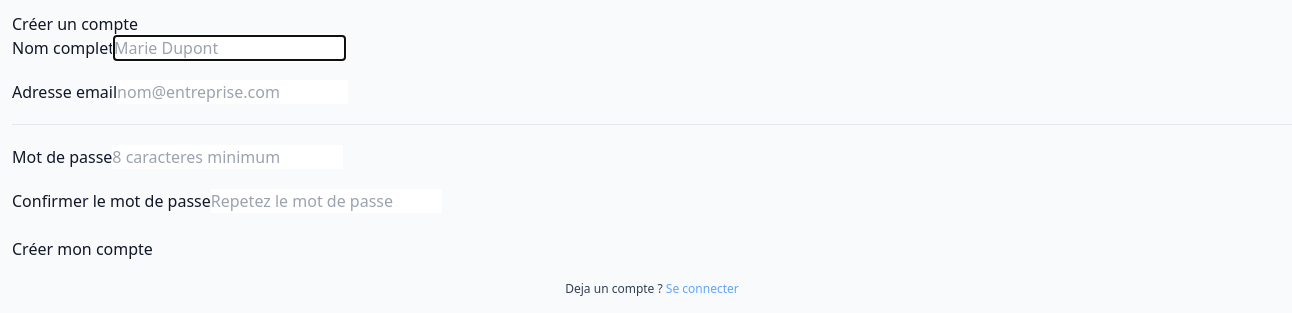
Test: RegisterPage › validation Zod — règles de complexité du mot de passe › devrait rejeter un mot de passe sans majuscule
The width and height of the screenshot is (1292, 313).
Type "Jean Dupont" into the field labelled "Nom complet" at [230, 48], box [114, 36, 345, 60]
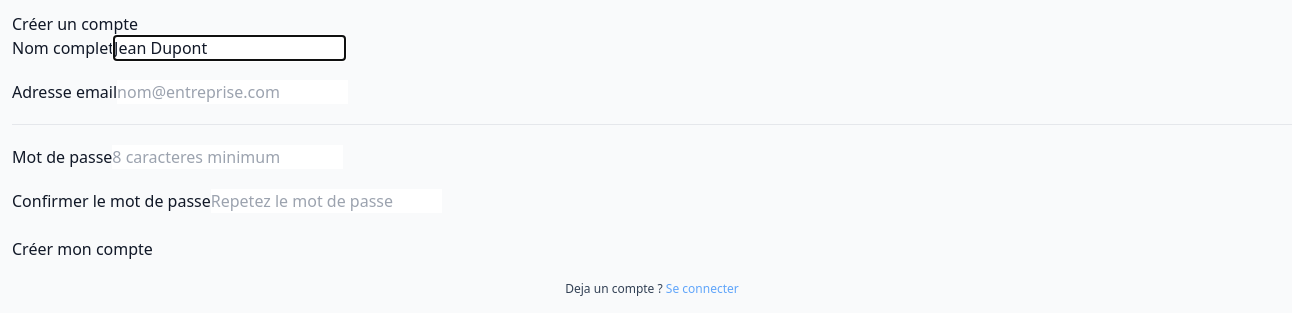
Type "jean@crm.io" into the field labelled "Adresse email" at [233, 92], box [117, 80, 348, 104]
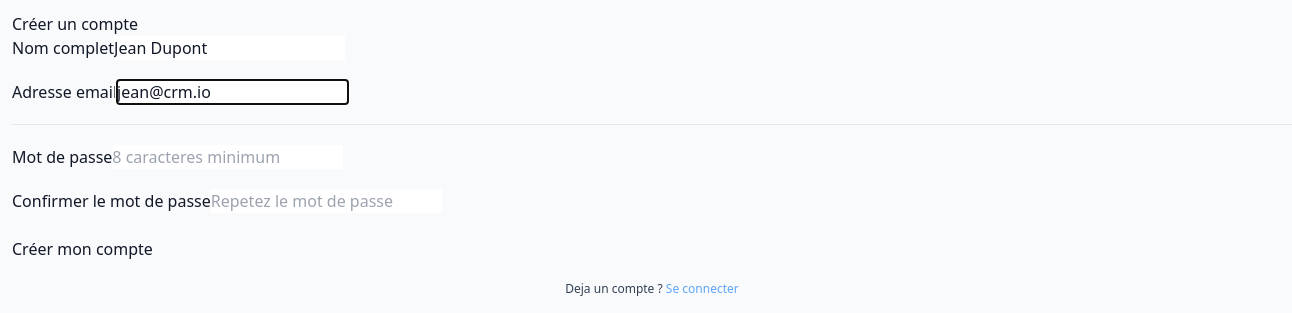
Type "password1" into the password field labelled "Mot de passe" at [228, 157], box [112, 145, 343, 169]
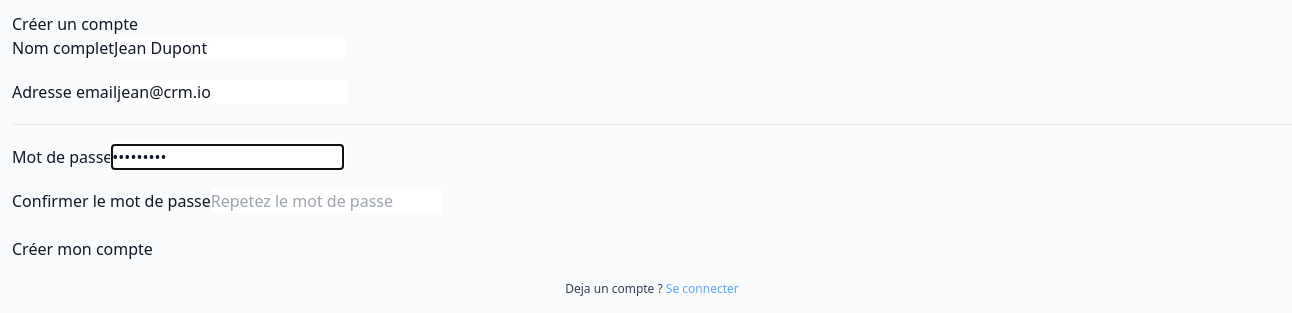
Type "password1" into the password field labelled "Confirmer le mot de passe" at [326, 201], box [211, 189, 442, 213]
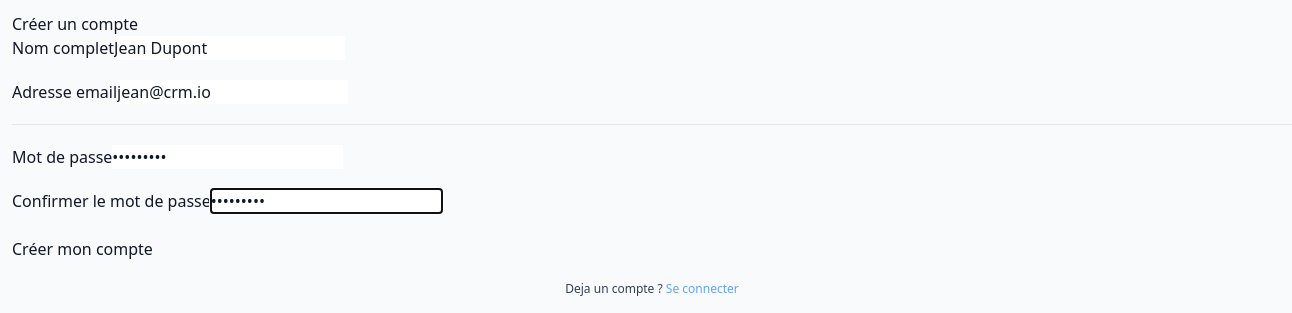
Click the button "Créer mon compte" at [82, 249], box [12, 237, 153, 261]
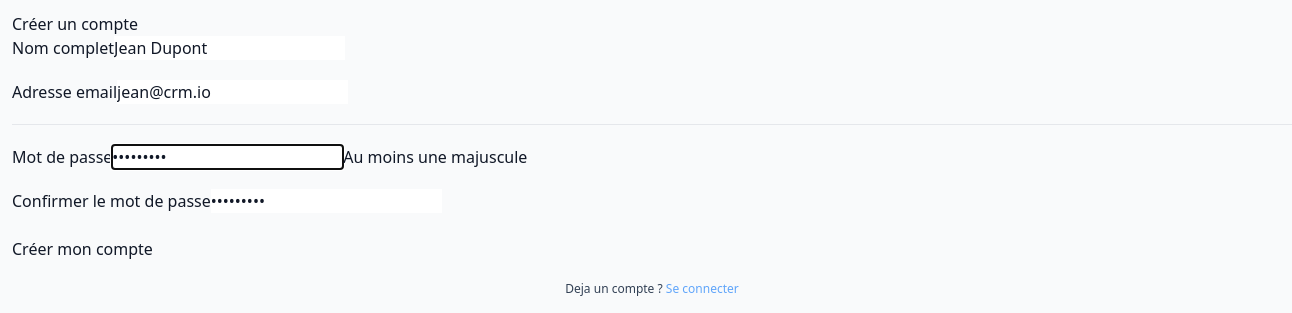
Expected: the message "Au moins une majuscule" is shown, [343, 146, 527, 168]
